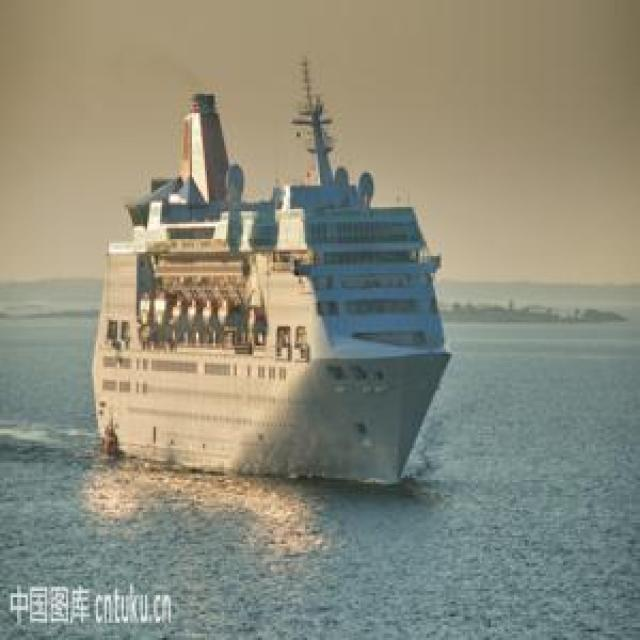navalvessels: (94, 62, 448, 493)
